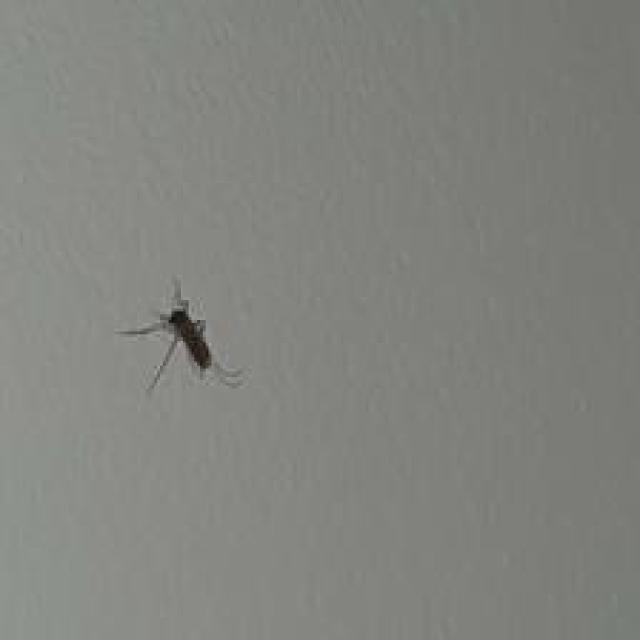Culex: (114, 273, 246, 393)
